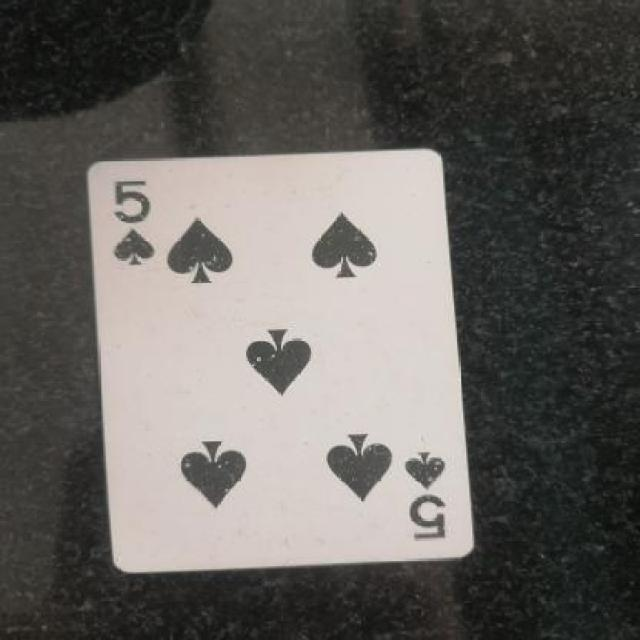5S: (389, 431, 462, 544), (100, 177, 174, 281)
